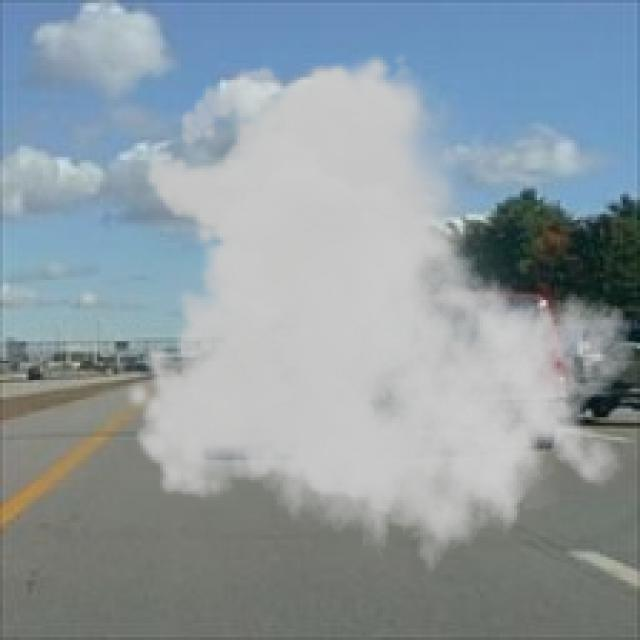smoke: (123, 51, 637, 592)
